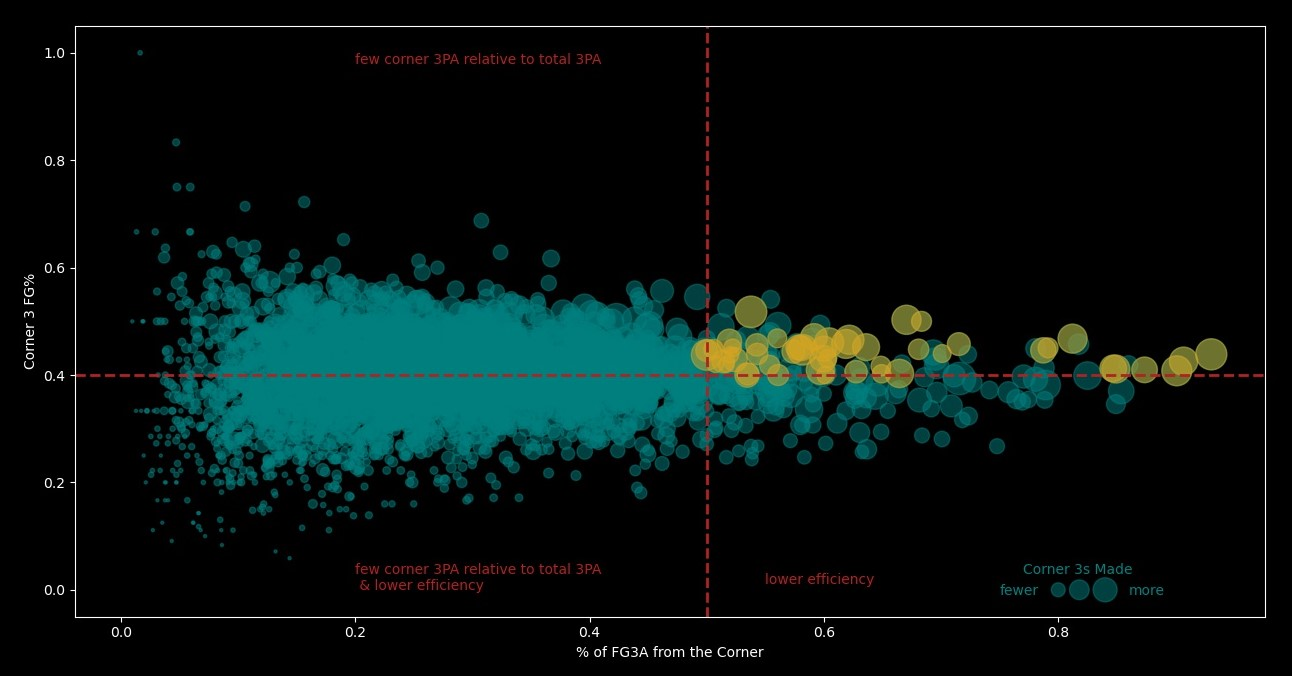

The page's visual inventory and layout, read from the dashboard file:
{"tool":"tableau","page":{"name":"Dashboard 1","canvas":[800,800],"ordinal":0},"visuals":[{"type":"worksheet","title":"Sheet 1","mark":"Automatic","rows":["LOC_Y"],"cols":["LOC_X"],"box":[8,8,624,784]},{"type":"legend","title":"Sheet 1","param":"[federated.03dq9x01td4w500zwbh3a0a7gqdi].[none:SHOT_MADE_FLAG:ok]","box":[632,8,160,72]}]}

Visuals, with their boxes on the page's 800x800 design canvas (x1, y1, x2, y2). These are canvas units, not pixel positions in the 1292x676 screenshot, which may show the page scaled, cropped or inside an application window:
"Sheet 1" worksheet: <region>8, 8, 632, 792</region>
"Sheet 1" legend: <region>632, 8, 792, 80</region>
